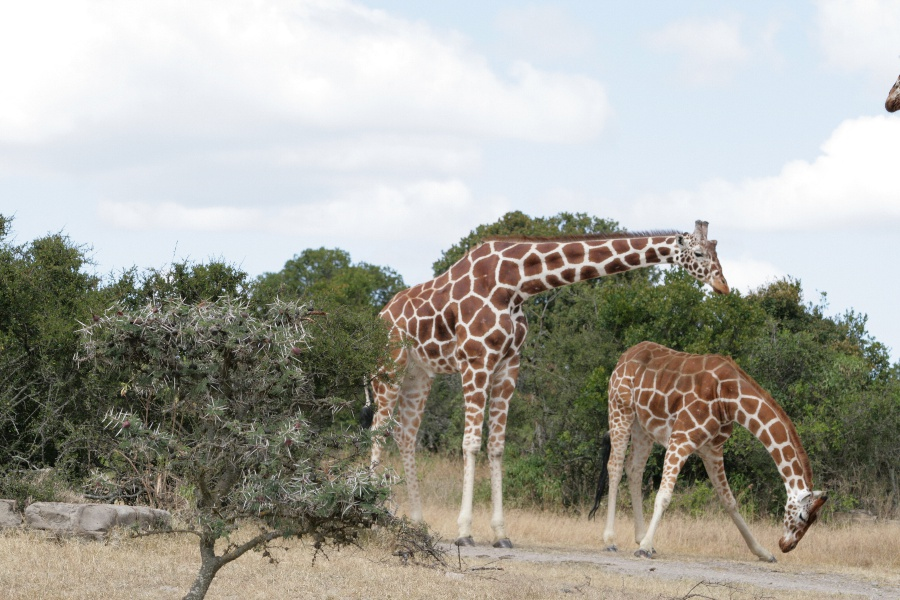giraffe: (352, 207, 731, 555), (598, 336, 831, 569)
